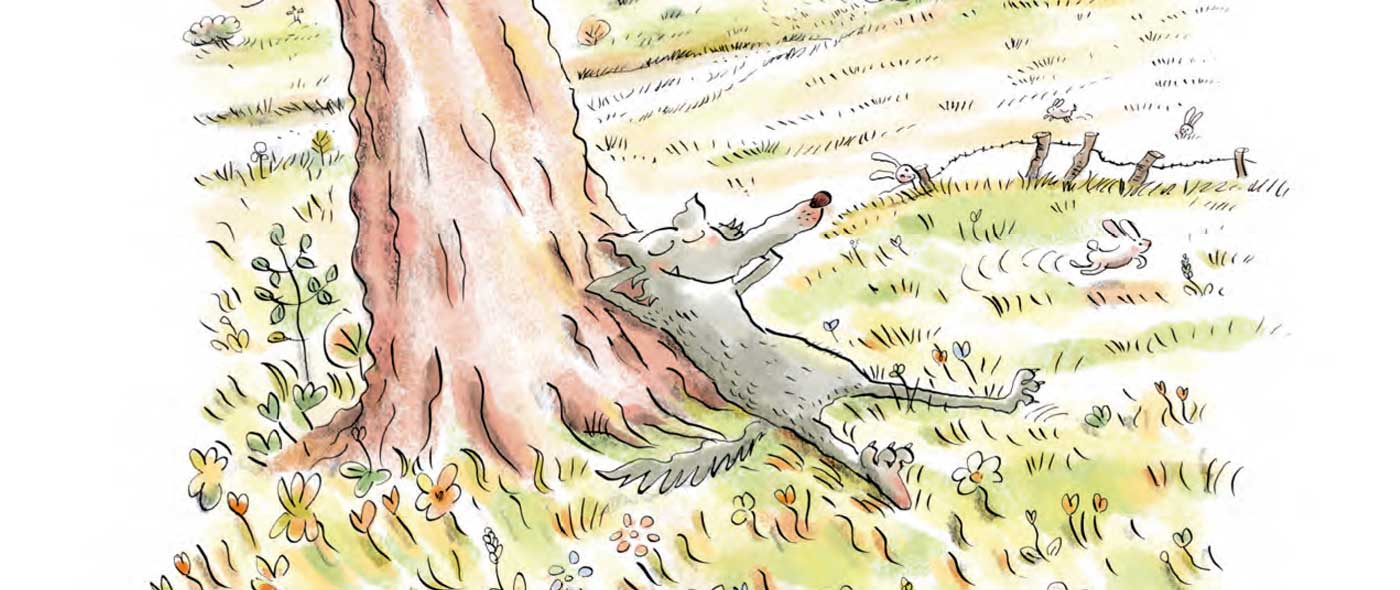Lobo: (600, 175, 1068, 530)
